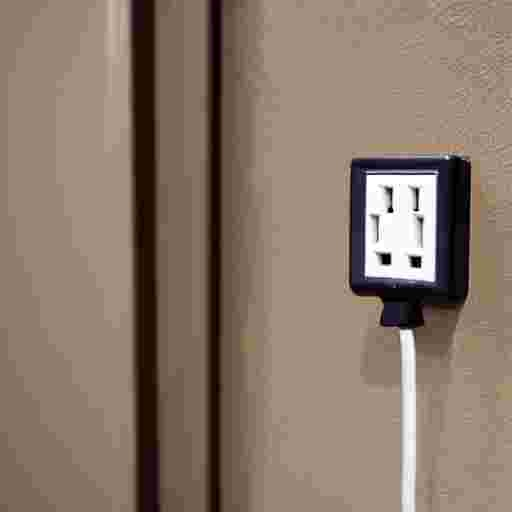power outlet: (350, 155, 470, 303)
